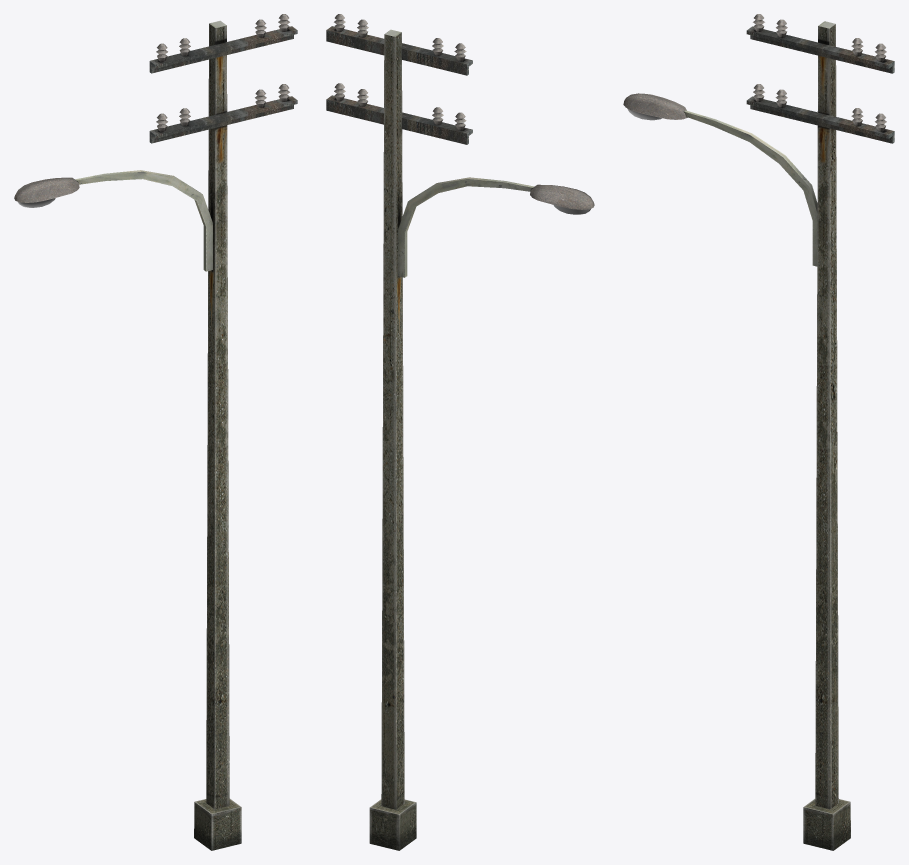
File: electric_pylon_03.fbx
3 renders of one model, left to right at view 1: azimuth 30°, elevation 25°; view 2: azimuth 150°, elevation 25°; view 3: azimuth 330°, elevation 25°, orthographic.
Parts seen in each view (by area): view 1: electric_pylon_03; view 2: electric_pylon_03; view 3: electric_pylon_03.
Boxes of the visible parts, x1=… form: electric_pylon_03: x1=14, y1=14, x2=297, y2=850; electric_pylon_03: x1=326, y1=14, x2=594, y2=850; electric_pylon_03: x1=623, y1=14, x2=894, y2=850.
Size of the model in its own units: 2.62 by 7.47 by 0.2988.
Materials: 2 (1 with a texture image).
